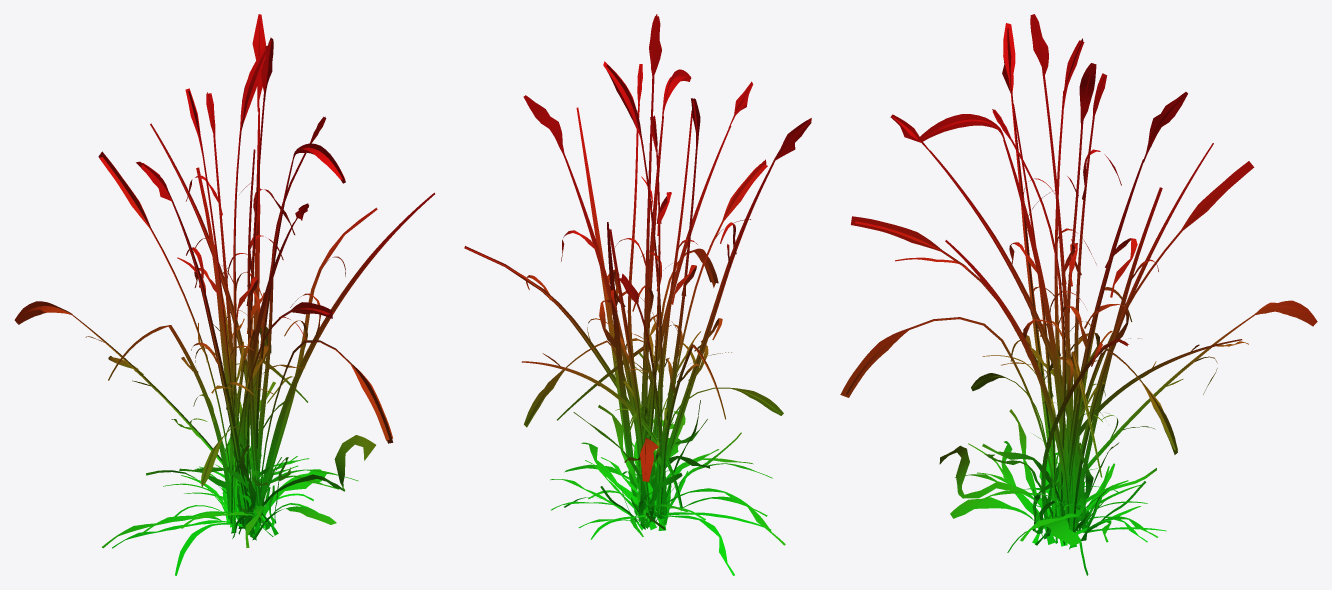
Rendered from tdcrdbur_Var1_LOD0.fbx.
3 views of the same model, side by side, from view 1: azimuth 30°, elevation 25°; view 2: azimuth 150°, elevation 25°; view 3: azimuth 270°, elevation 25° (orthographic). The views are drawn at different scales.
Parts seen in each view (by area): view 1: _1440_Var1_LOD0; view 2: _1440_Var1_LOD0; view 3: _1440_Var1_LOD0.
Boxes of the visible parts, <box> form: _1440_Var1_LOD0: <box>14,14,434,575</box>; _1440_Var1_LOD0: <box>464,14,811,575</box>; _1440_Var1_LOD0: <box>840,14,1317,575</box>.
Bounding box in the file's own units: 81.73 × 133 × 106.
